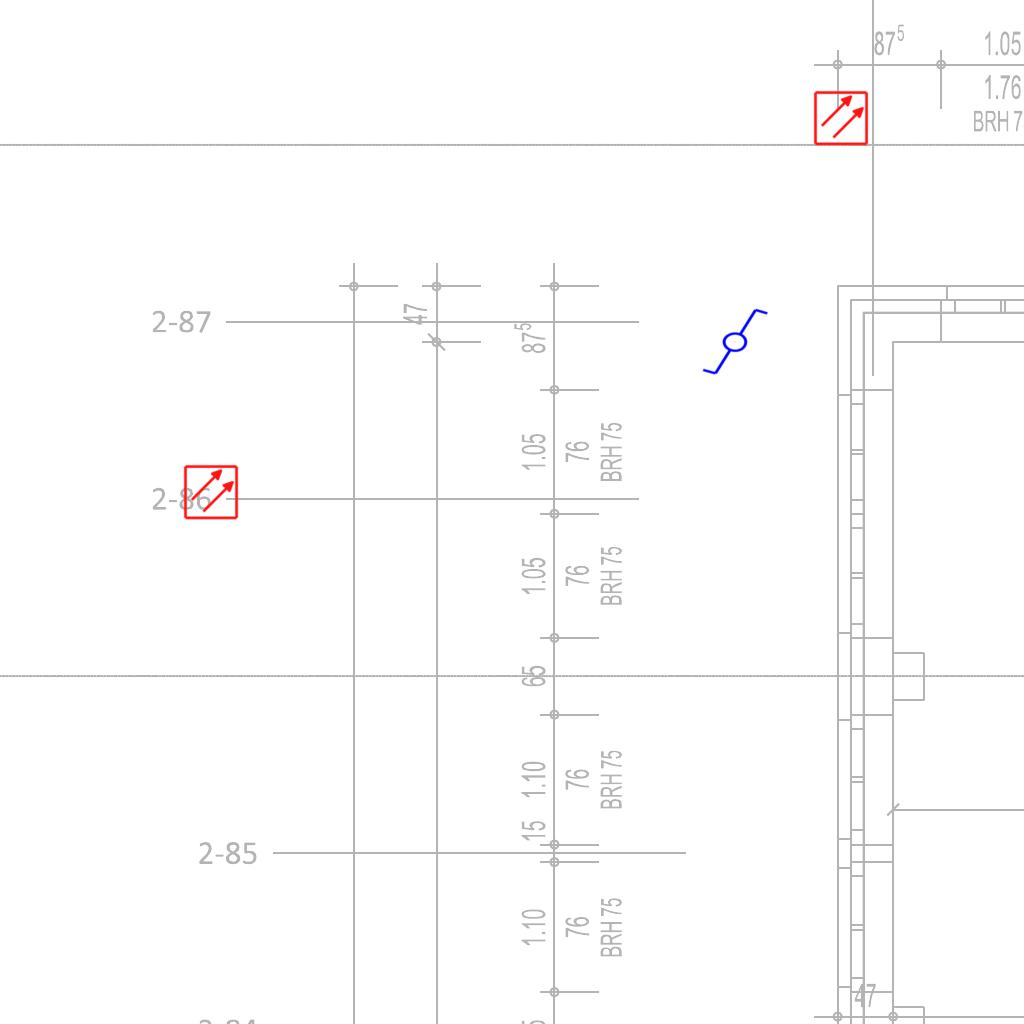RMO_Rauchmelder_optischer: (182, 463, 240, 521), (813, 90, 869, 146)
Wechselschalter: (692, 305, 770, 377)
